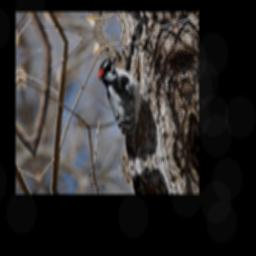Woodpecker: (93, 48, 154, 166)
